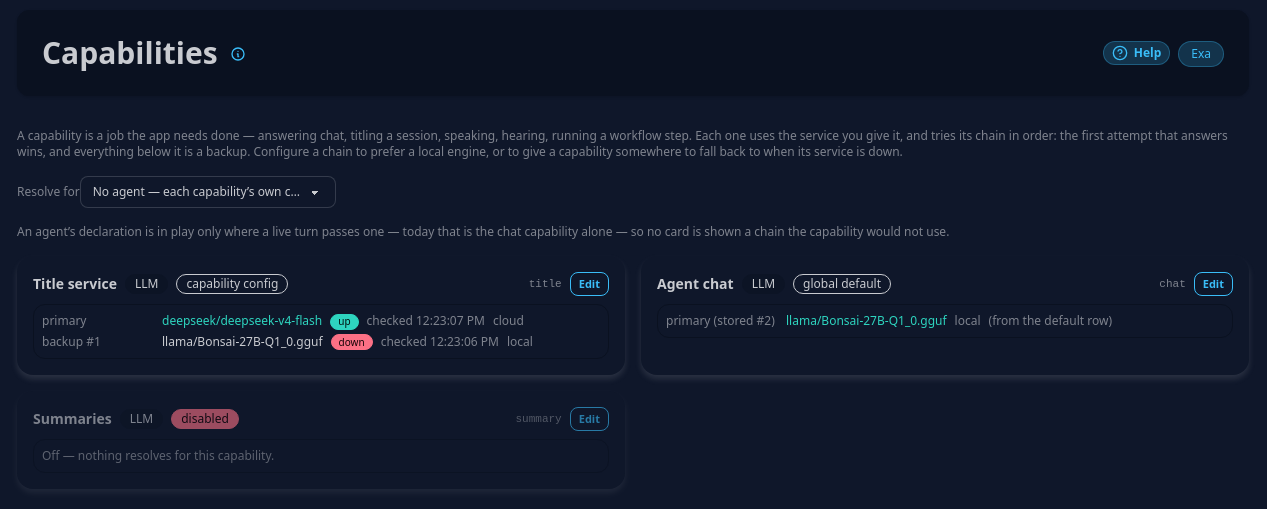
it: ProviderCapabilities (the read-out) › resolves for an agent only when one is picked, and defaults to the sessionless view
picking an agent re-reads THROUGH the agent rung, with the BACKEND id
Step 1. Select "Lois" in the dropdown named "Resolve the capabilities for an agent" → coordinates (208, 192), box [80,176,336,208]
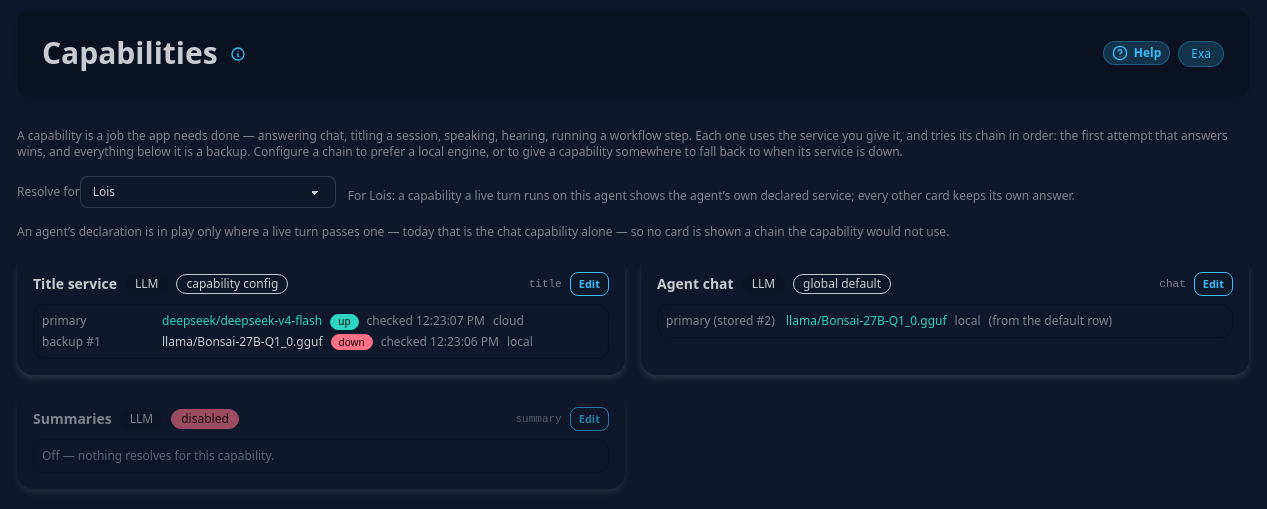
Expected: the text "For Lois" is shown, [348,188,1075,208]
